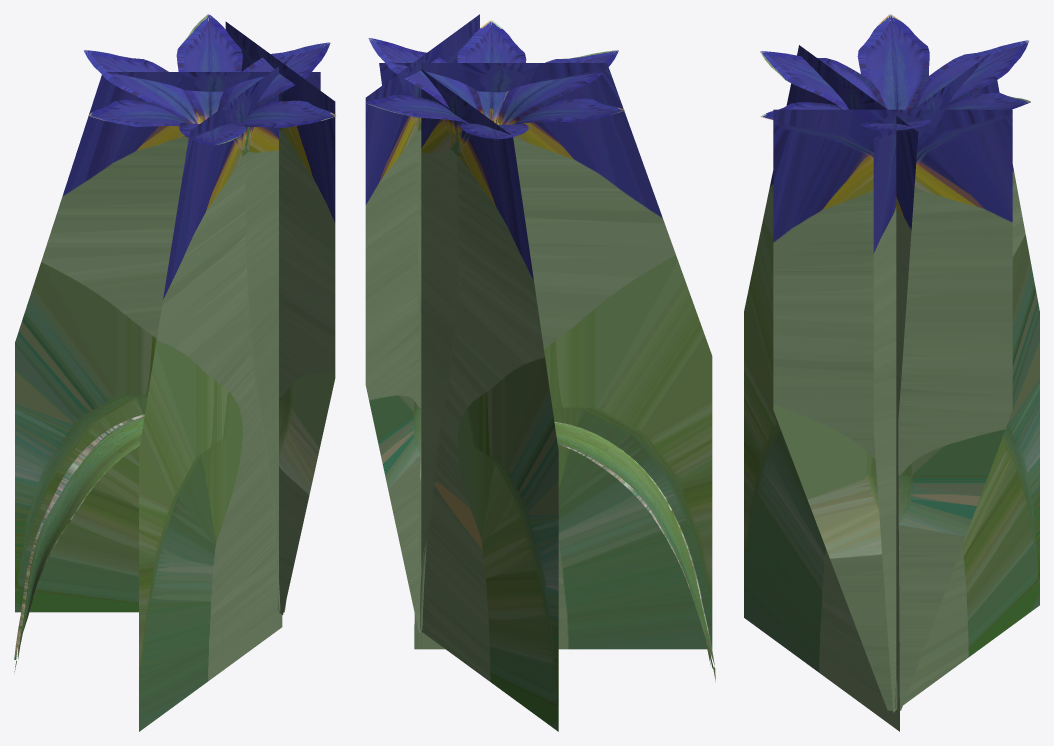
Rendered from PW_Tulip_Purple_v2.fbx.
3 views of the same model, side by side, from view 1: azimuth 30°, elevation 25°; view 2: azimuth 150°, elevation 25°; view 3: azimuth 270°, elevation 25° (orthographic). The views are drawn at different scales.
Parts seen in each view (by area): view 1: Billboard, LOD0; view 2: Billboard, LOD0; view 3: Billboard, LOD0.
Boxes of the visible parts, left/top/right/bottom form: Billboard: left=15, top=21, right=335, bottom=731; LOD0: left=14, top=14, right=335, bottom=673; Billboard: left=365, top=14, right=712, bottom=731; LOD0: left=365, top=20, right=715, bottom=681; Billboard: left=744, top=45, right=1039, bottom=731; LOD0: left=760, top=14, right=1030, bottom=709.
Size of what is drawn, in the model's own units: 6.74 by 11.4 by 4.88.
